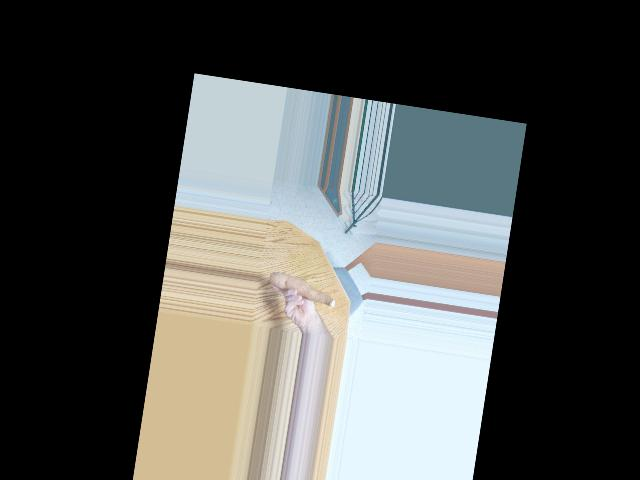sweet_potato: (267, 268, 340, 310)
